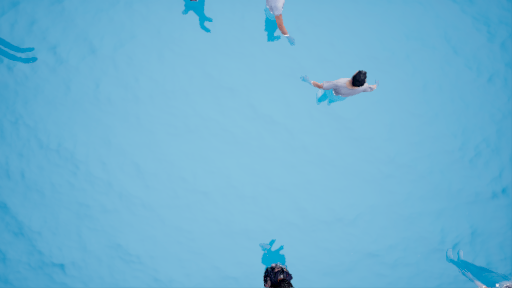person: (304, 74, 378, 106), (255, 240, 300, 288), (259, 1, 299, 50)
